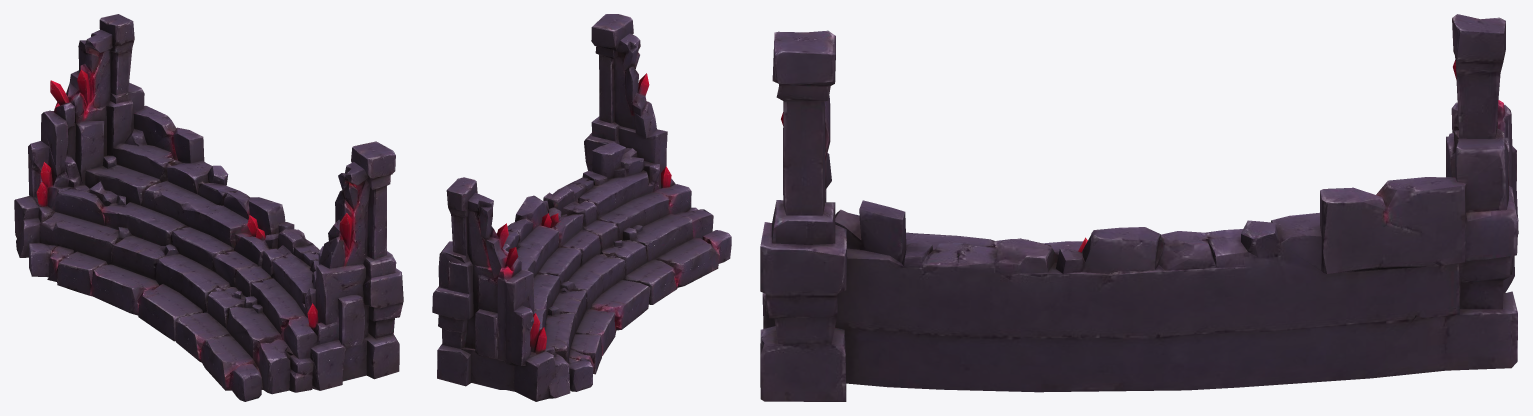
Rendered from arena_wall_segment.glb.
3 views of the same model, side by side, from view 1: azimuth 30°, elevation 25°; view 2: azimuth 150°, elevation 25°; view 3: azimuth 270°, elevation 25° (orthographic). The views are drawn at different scales.
Visible parts, largest first — view 1: body; view 2: body; view 3: body.
Part boxes in pixels (x1,y1,x2,y2): body: [14, 14, 403, 401]; body: [432, 14, 731, 401]; body: [760, 14, 1518, 401].
Size of the model in its own units: 1.32 by 1.57 by 3.
1 material, 1 textured.
